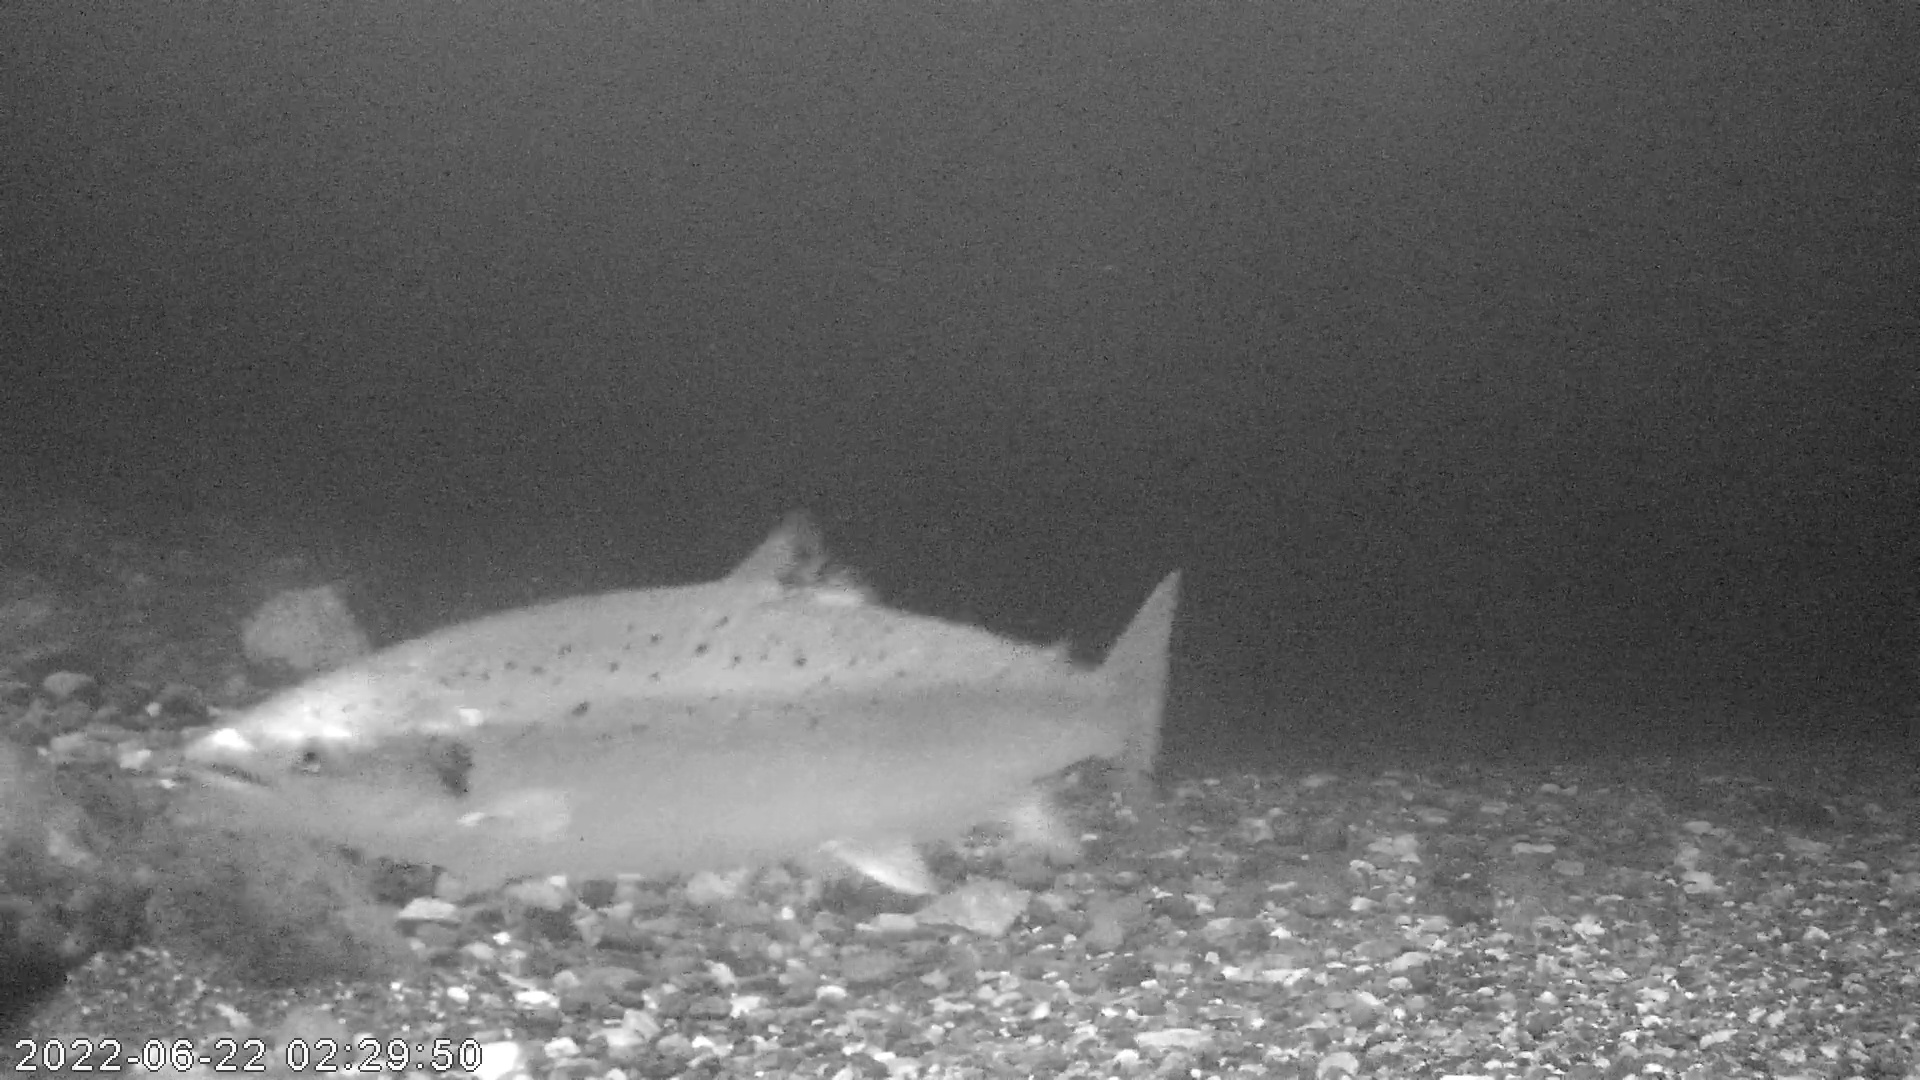salmon: (179, 501, 1191, 899)
